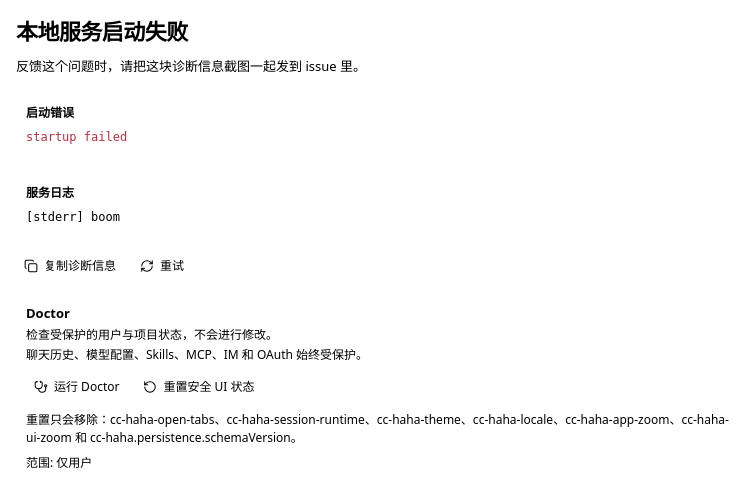
it: StartupErrorView › shows diagnostics and copies the full payload with the legacy fallback
Expected: the heading "本地服务启动失败" is shown, [16,16,188,46]
Expected: the text "startup failed" is shown, [26,130,127,144]
Click the button "复制诊断信息".
click(70, 266)  # box [16,254,124,278]
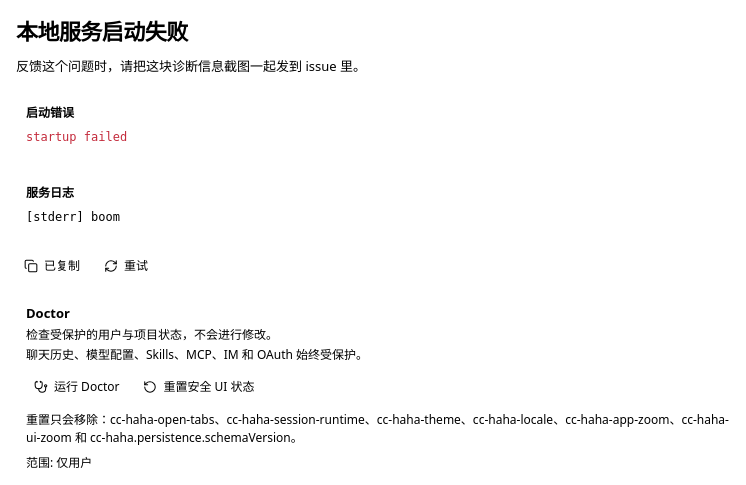
Now the button "已复制" is shown, box [16,254,88,278]
